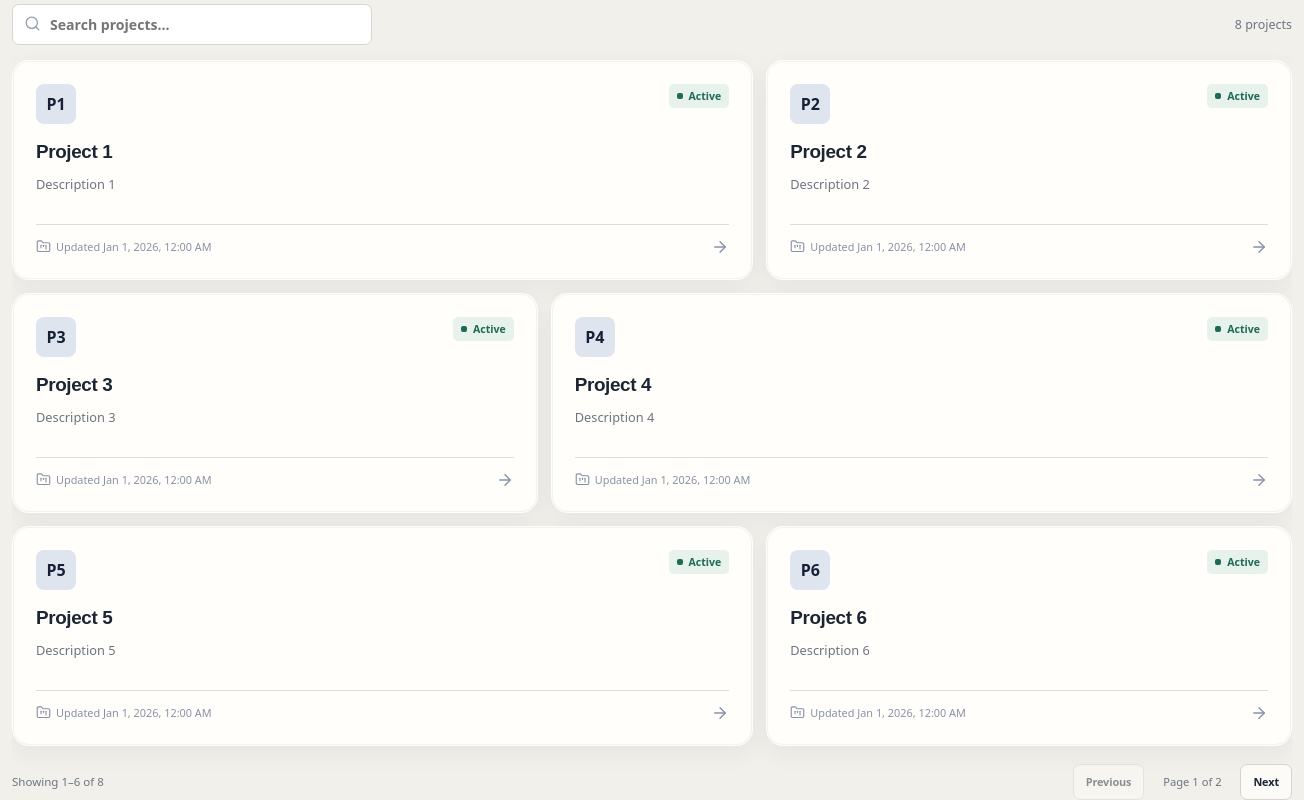
Test: projects pagination › paginates filtered projects and resets to the first page when searching
This screenshot has width=1304, height=800.
(page scrolled)
Check: the heading "Project 1" is shown, box [36,140,112,162]
Check: the heading "Project 6" is shown, box [790,606,867,628]
Click the button "Next" at {"x": 1266, "y": 782}, box [1240,764,1292,799]
(page scrolled)
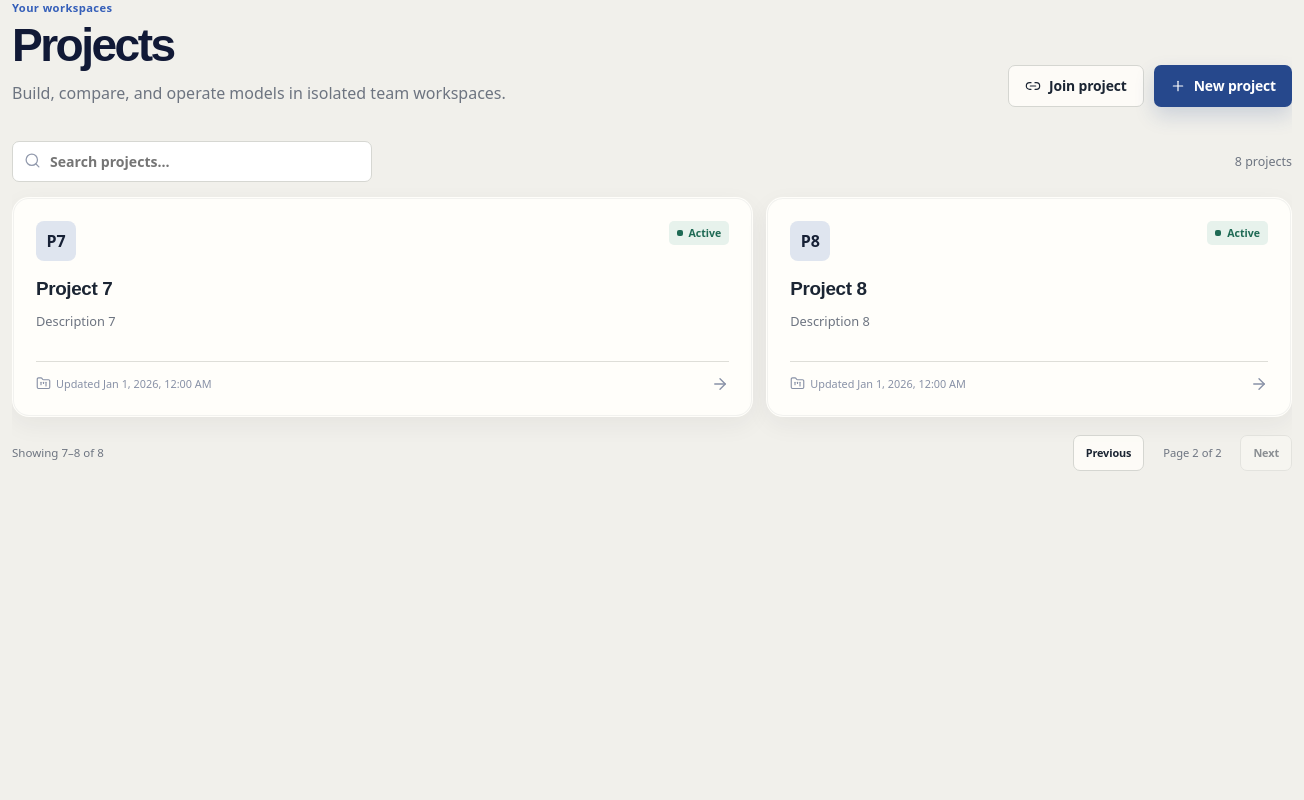
Check: the heading "Project 7" is shown, box [36,278,112,298]
Check: the link "Project 1" is gone
Check: the text "Showing 7–8 of 8" is shown, box [12,444,104,461]
Type "Project 1" into the field labelled "Search projects" at {"x": 192, "y": 161}, box [12,140,372,182]
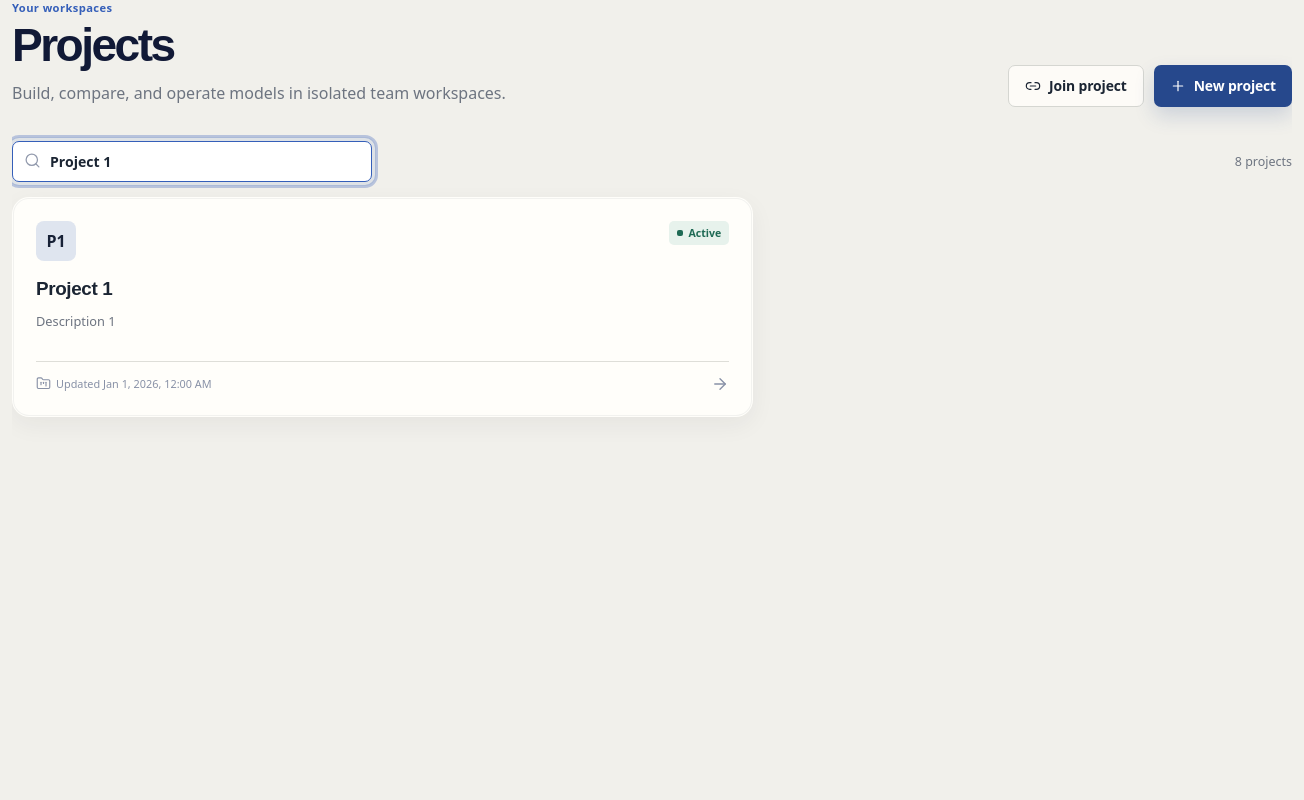
Check: the heading "Project 1" is shown, box [36,278,112,298]
